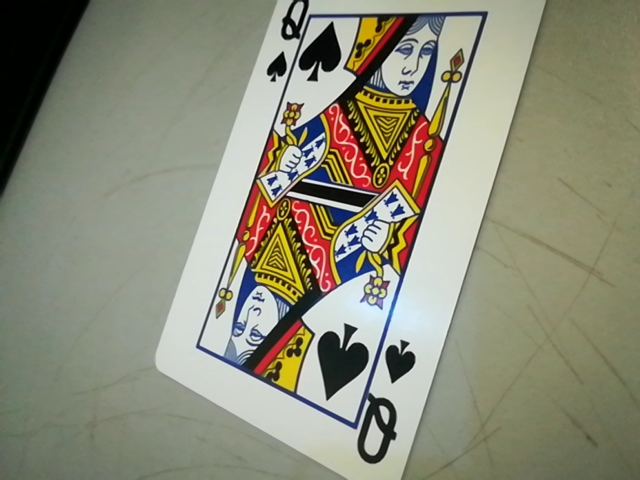ht q: (357, 333, 420, 475)
